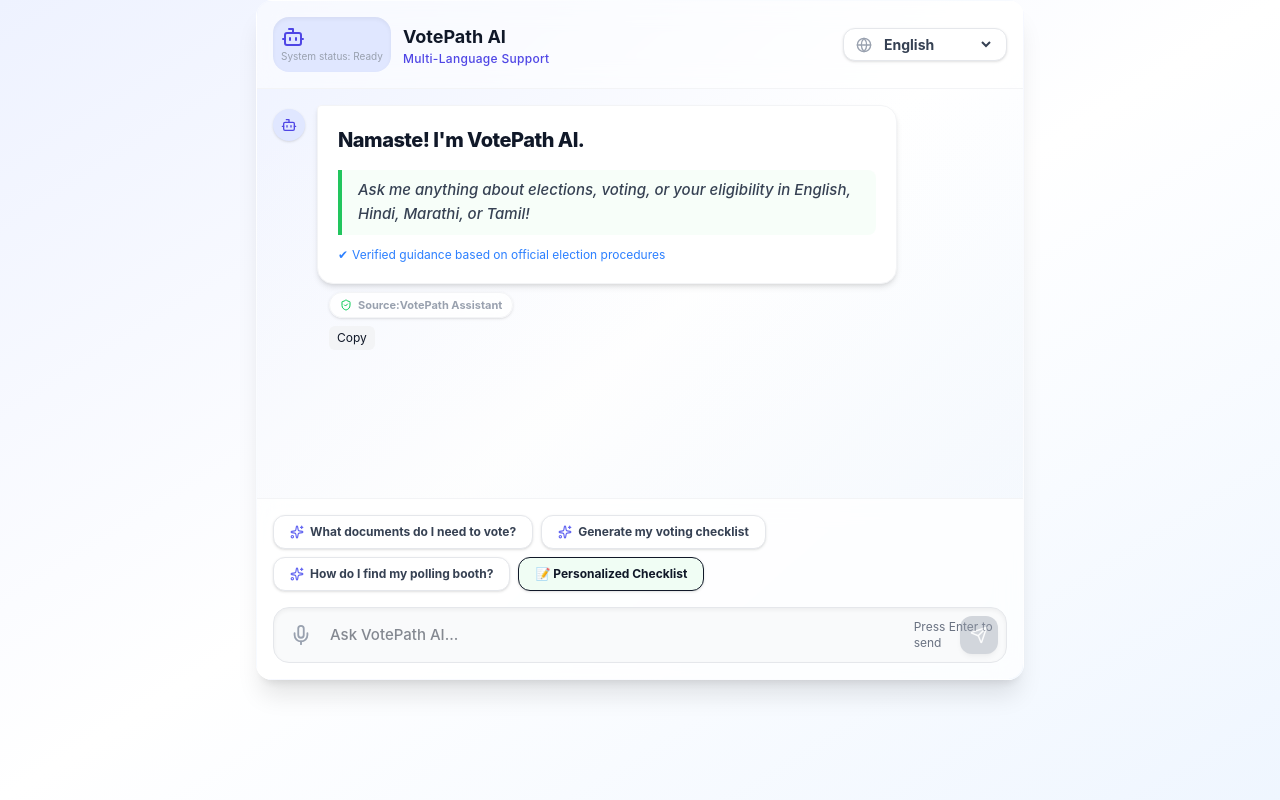
Chat Component › sends message and displays AI response
Type "How to vote?" into the field at (590, 635), box [274,608,906,662]
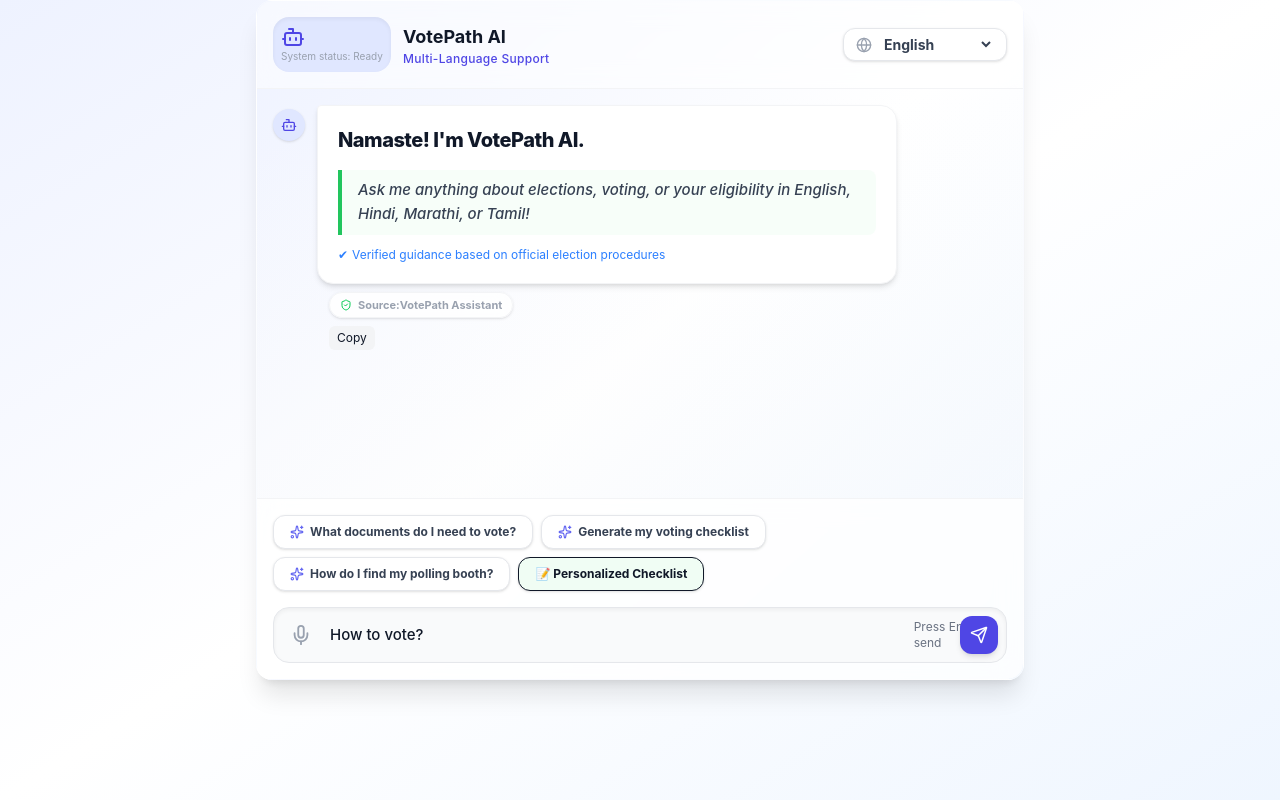
Click the button named "send" at (979, 635), box [960,616,998,654]
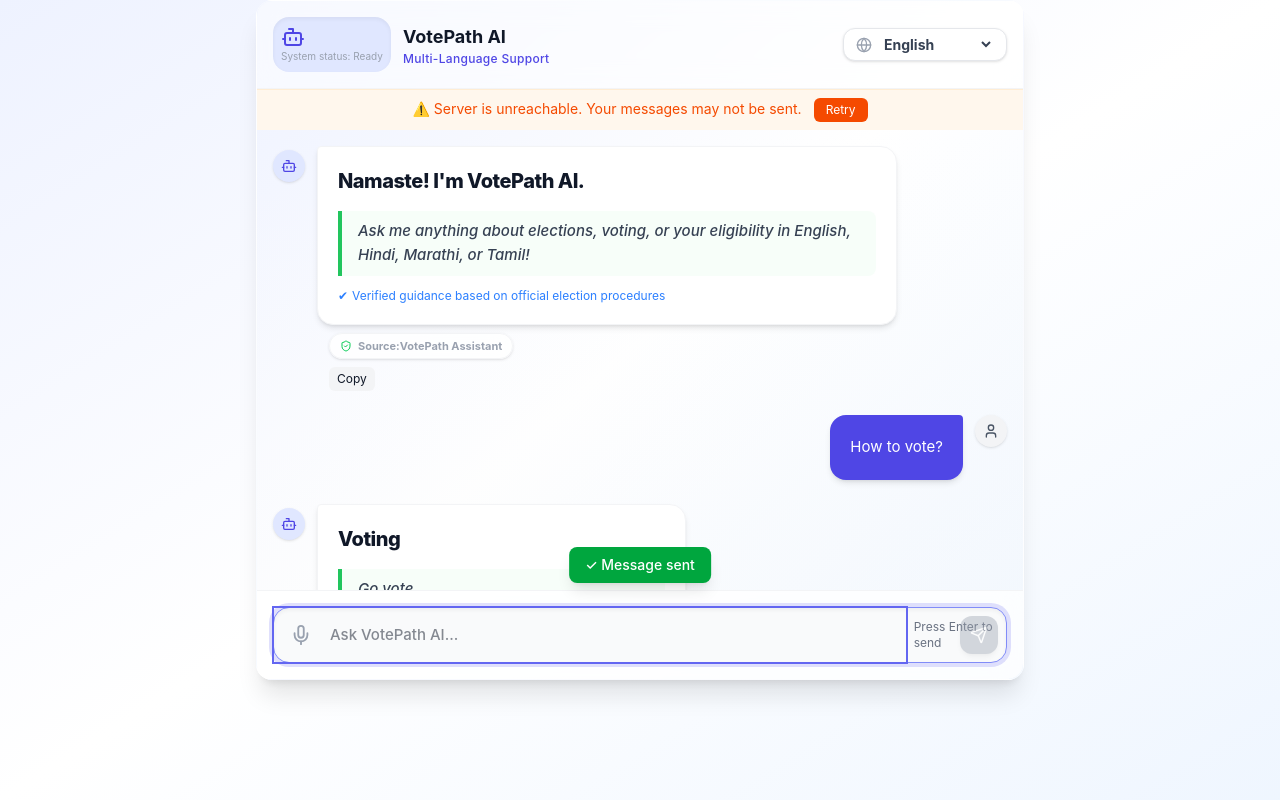
Check: the text "How to vote?" is shown, box [850,435,943,460]
